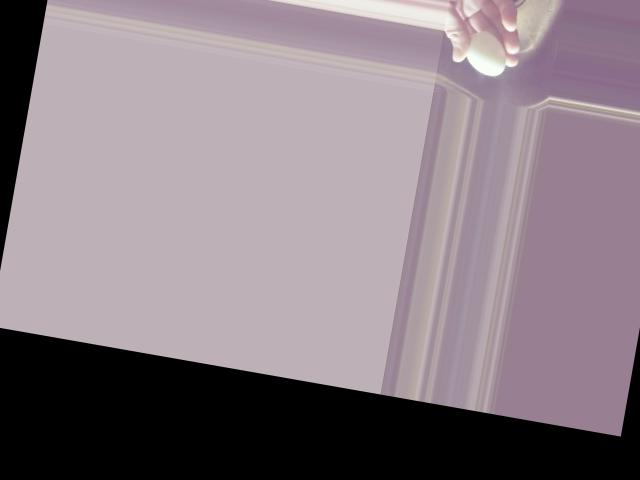egg: (462, 29, 509, 77)
